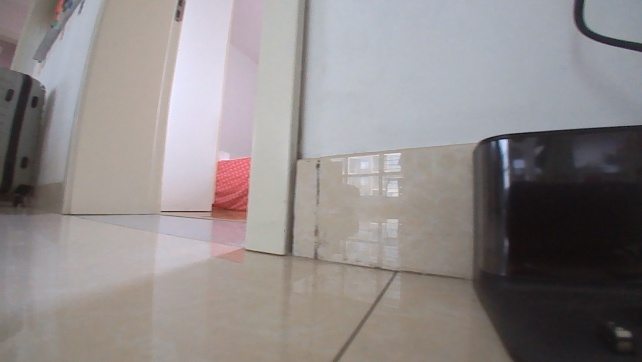wire: (567, 0, 640, 57)
